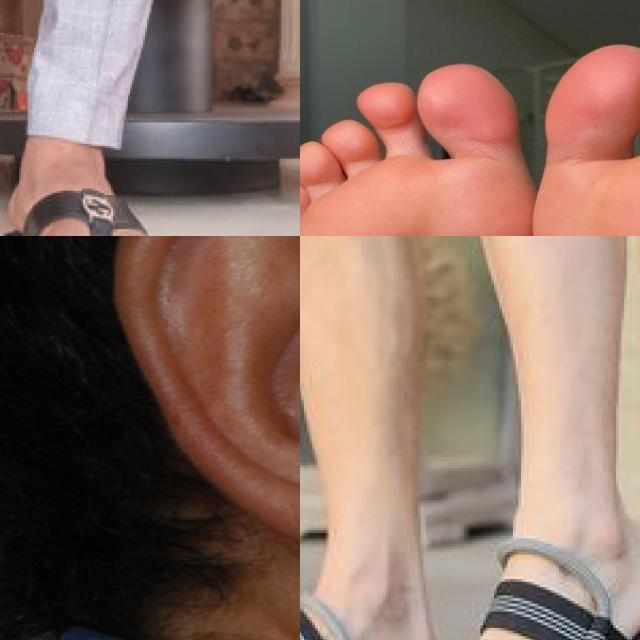Barefoots: (300, 62, 553, 236), (538, 47, 640, 236)
No_Ear-Protection: (110, 236, 300, 591)
Sandals: (395, 515, 640, 640), (3, 186, 200, 236)
